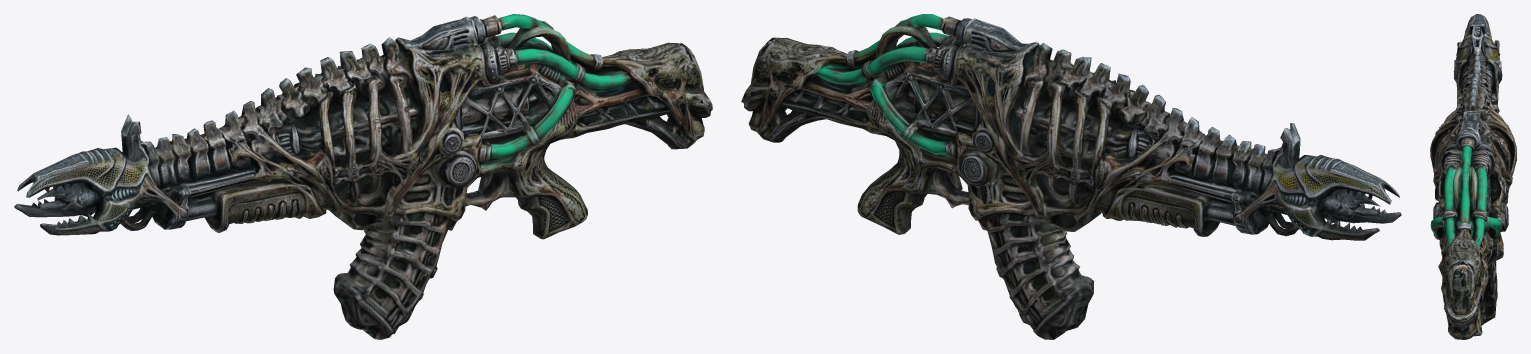
File: alien-weapon-enh.glb
The picture shows the model from 3 angles, left to right: view 1: azimuth 30°, elevation 25°; view 2: azimuth 150°, elevation 25°; view 3: azimuth 270°, elevation 25°; orthographic projection. The views are drawn at different scales.
Parts seen in each view (by area): view 1: tripo_node_35899569-647a-4d6d-91ec-721db3bbcd32.001; view 2: tripo_node_35899569-647a-4d6d-91ec-721db3bbcd32.001; view 3: tripo_node_35899569-647a-4d6d-91ec-721db3bbcd32.001.
Part boxes in pixels (left/top/right/bottom): tripo_node_35899569-647a-4d6d-91ec-721db3bbcd32.001: left=14, top=14, right=712, bottom=339; tripo_node_35899569-647a-4d6d-91ec-721db3bbcd32.001: left=741, top=14, right=1401, bottom=339; tripo_node_35899569-647a-4d6d-91ec-721db3bbcd32.001: left=1430, top=14, right=1516, bottom=339.
Size of the model in its own units: 1.63 by 0.6922 by 0.2395.
Materials: 1 (1 with a texture image).
